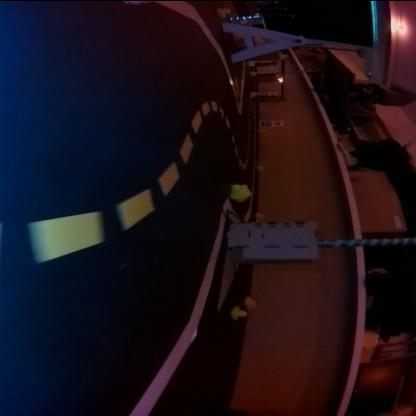Duckie: (233, 182, 252, 200), (232, 304, 248, 318)
